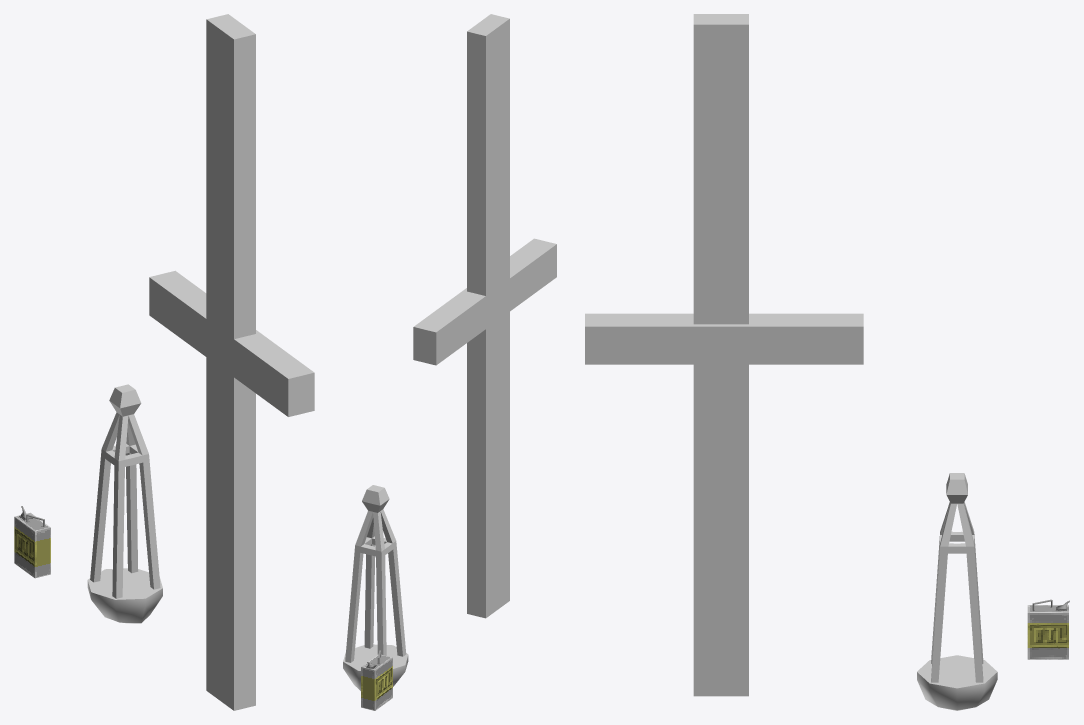
The model's file is generalLowPolyObjs.fbx.
The picture shows the model from 3 angles, left to right: view 1: azimuth 30°, elevation 25°; view 2: azimuth 150°, elevation 25°; view 3: azimuth 270°, elevation 25°; orthographic projection. The views are drawn at different scales.
Visible parts, largest first — view 1: InvertedCrucifix, Buoy, OilCanister; view 2: InvertedCrucifix, Buoy, OilCanister; view 3: InvertedCrucifix, Buoy, OilCanister.
Part boxes in pixels (left/top/right/bottom): InvertedCrucifix: left=149, top=14, right=314, bottom=710; Buoy: left=87, top=384, right=162, bottom=623; OilCanister: left=14, top=506, right=50, bottom=578; InvertedCrucifix: left=413, top=14, right=556, bottom=618; Buoy: left=343, top=485, right=408, bottom=690; OilCanister: left=361, top=650, right=392, bottom=710; InvertedCrucifix: left=585, top=14, right=863, bottom=696; Buoy: left=917, top=473, right=997, bottom=710; OilCanister: left=1027, top=599, right=1069, bottom=659.
Bounding box in the file's own units: 373 × 2741 × 1756.
